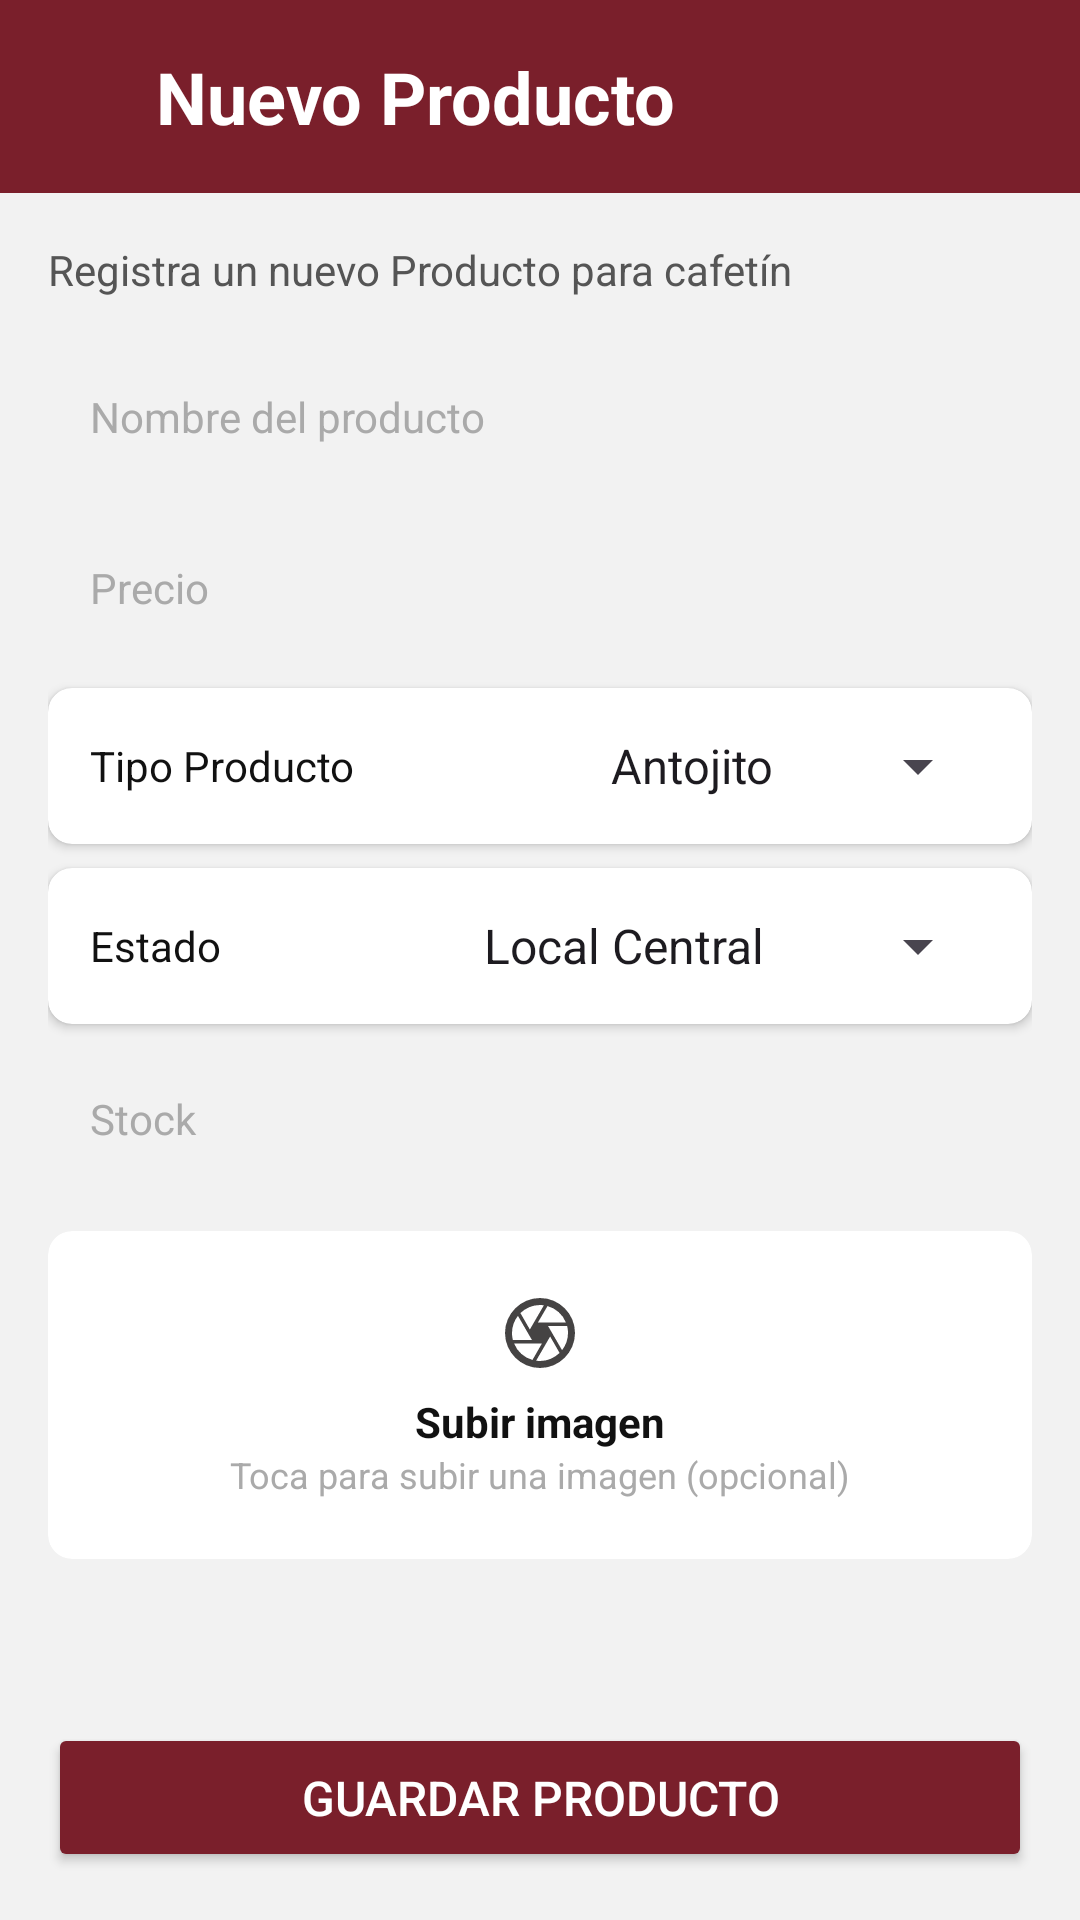

Locate icon controls on the screen. Image size 1080 x 1920, boxes as (x1, y1, x2, y2).
Cámara: (505, 1298, 575, 1368)
